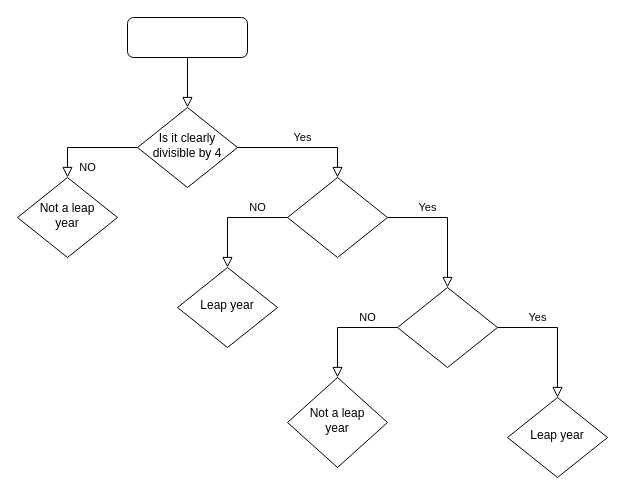
Image size: 625x495. Some labels were removed from this diagram. Here are the shapes that lost their labels. From the top down, the centre of each, then its label:
At pixel 187 37: "Start".
At pixel 337 217: "Is it clearly divisible by 100".
At pixel 447 327: "Is it clearly divisible by 400".
